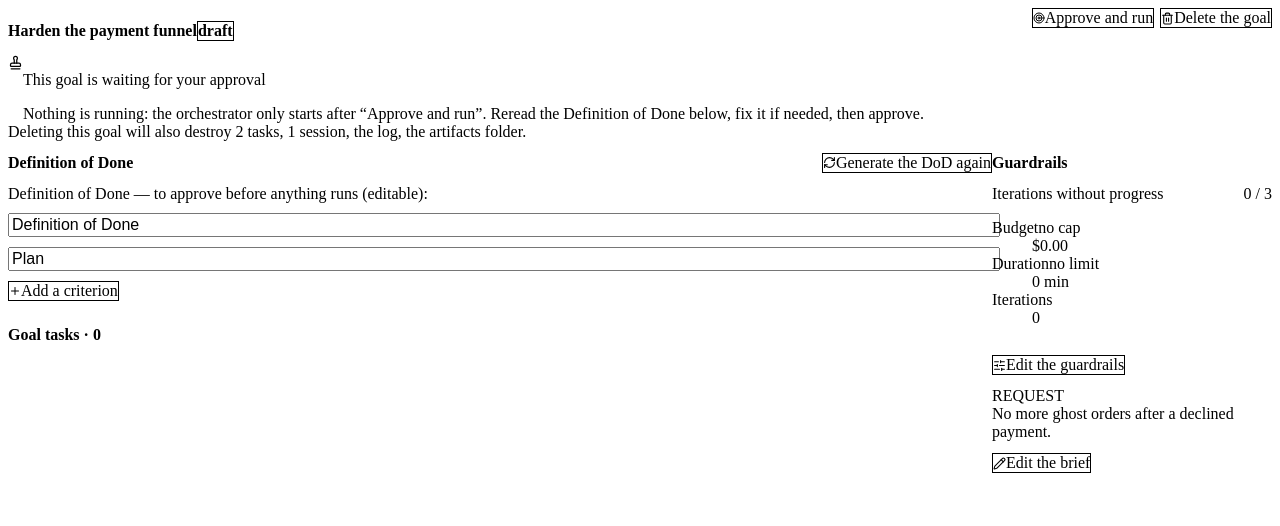
it: GoalPage: deleting a goal (D1-D12) › success: summary toast then navigation to the project's goal list
This screenshot has width=1280, height=526.
Click the button "Delete the goal". click: point(1216, 18)
box: [1160,8,1272,28]
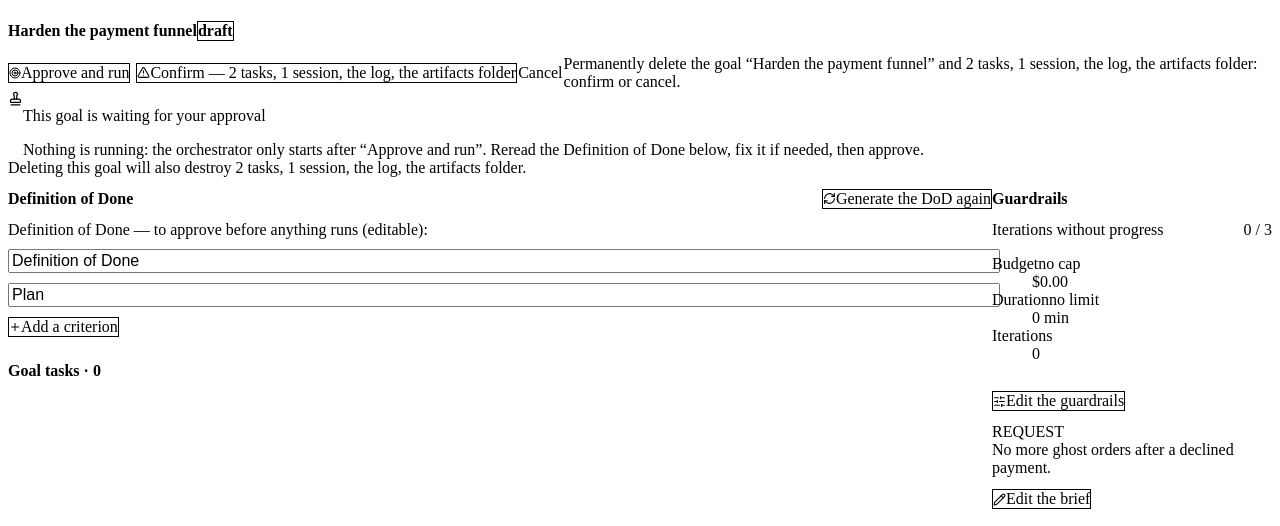
Click the button "Confirm — 2 tasks, 1 session, the log, the artifacts folder". click: point(327, 72)
box: [136,62,517,82]
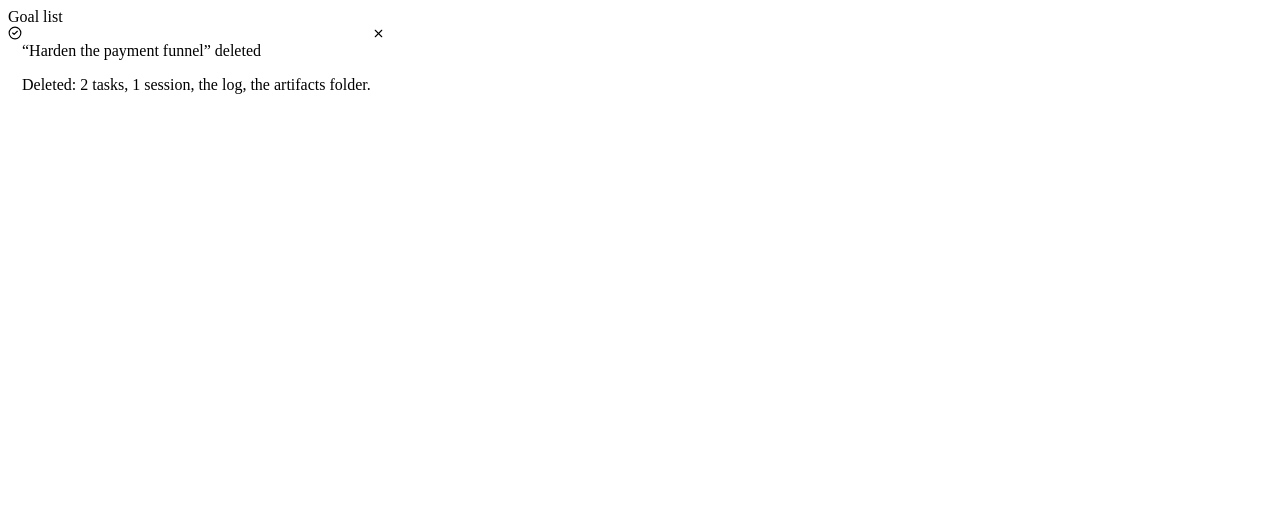
Expected: the text "“Harden the payment funnel” deleted" is shown, [22,42,261,59]
